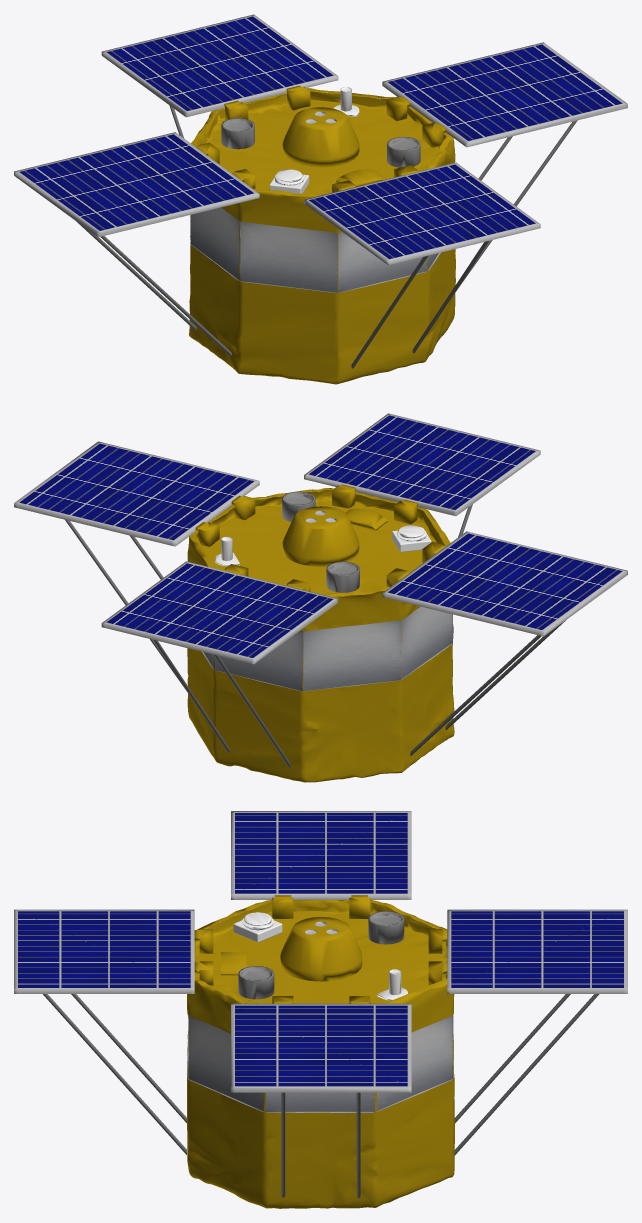
File: ACRIMSAT.glb
3 views of the same model, one above another, from view 1: azimuth 30°, elevation 25°; view 2: azimuth 150°, elevation 25°; view 3: azimuth 270°, elevation 25° (orthographic). The views are drawn at different scales.
Visible parts, largest first — view 1: Acrimsat_vFINAL [Layer2], Acrimsat_vFINAL [Layer1], Acrimsat_vFINAL [Layer3], Acrimsat_vFINAL [Layer8], Acrimsat_vFINAL [Layer4], Acrimsat_vFINAL [Layer7], Acrimsat_vFINAL [Layer5], Acrimsat_vFINAL [Layer6]; view 2: Acrimsat_vFINAL [Layer2], Acrimsat_vFINAL [Layer1], Acrimsat_vFINAL [Layer3], Acrimsat_vFINAL [Layer8], Acrimsat_vFINAL [Layer4], Acrimsat_vFINAL [Layer7], Acrimsat_vFINAL [Layer5], Acrimsat_vFINAL [Layer6]; view 3: Acrimsat_vFINAL [Layer2], Acrimsat_vFINAL [Layer1], Acrimsat_vFINAL [Layer8], Acrimsat_vFINAL [Layer3], Acrimsat_vFINAL [Layer4], Acrimsat_vFINAL [Layer7], Acrimsat_vFINAL [Layer5], Acrimsat_vFINAL [Layer6].
Boxes of the visible parts, <box> form: Acrimsat_vFINAL [Layer2]: <box>19,16,622,259</box>; Acrimsat_vFINAL [Layer1]: <box>189,88,455,384</box>; Acrimsat_vFINAL [Layer3]: <box>190,207,440,292</box>; Acrimsat_vFINAL [Layer8]: <box>14,14,627,265</box>; Acrimsat_vFINAL [Layer4]: <box>196,85,446,192</box>; Acrimsat_vFINAL [Layer7]: <box>76,105,577,368</box>; Acrimsat_vFINAL [Layer5]: <box>221,118,420,167</box>; Acrimsat_vFINAL [Layer6]: <box>269,87,359,193</box>; Acrimsat_vFINAL [Layer2]: <box>19,415,622,657</box>; Acrimsat_vFINAL [Layer1]: <box>187,488,454,782</box>; Acrimsat_vFINAL [Layer3]: <box>202,606,453,691</box>; Acrimsat_vFINAL [Layer8]: <box>14,413,627,664</box>; Acrimsat_vFINAL [Layer4]: <box>195,484,445,591</box>; Acrimsat_vFINAL [Layer7]: <box>65,504,565,767</box>; Acrimsat_vFINAL [Layer5]: <box>282,491,359,592</box>; Acrimsat_vFINAL [Layer6]: <box>215,525,431,566</box>; Acrimsat_vFINAL [Layer2]: <box>18,813,623,1086</box>; Acrimsat_vFINAL [Layer1]: <box>187,900,454,1208</box>; Acrimsat_vFINAL [Layer8]: <box>14,811,627,1092</box>; Acrimsat_vFINAL [Layer3]: <box>187,1015,453,1112</box>; Acrimsat_vFINAL [Layer4]: <box>194,895,447,1003</box>; Acrimsat_vFINAL [Layer7]: <box>43,994,599,1198</box>; Acrimsat_vFINAL [Layer5]: <box>238,911,404,999</box>; Acrimsat_vFINAL [Layer6]: <box>233,912,407,1000</box>.
Size of the model in its own units: 11051 by 4223 by 10352.
26 materials, 13 textured.
